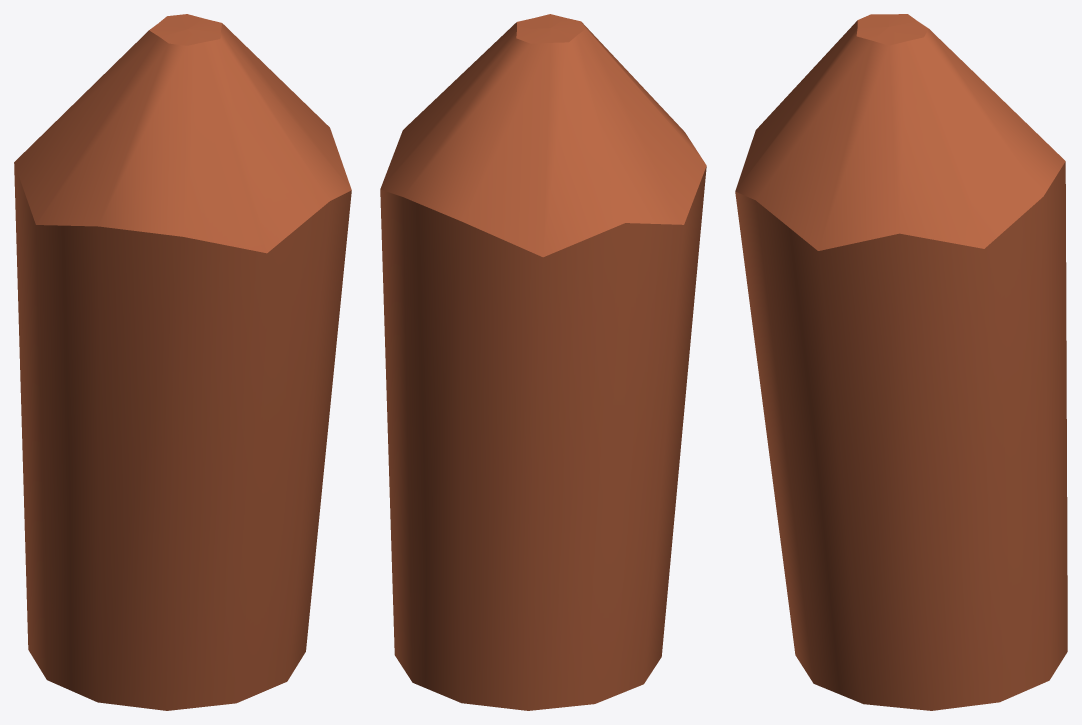
Rendered from pillar.fbx.
3 views of the same model, side by side, from view 1: azimuth 30°, elevation 25°; view 2: azimuth 150°, elevation 25°; view 3: azimuth 270°, elevation 25° (orthographic). The views are drawn at different scales.
Visible parts, largest first — view 1: Pillar; view 2: Pillar; view 3: Pillar.
Part boxes in pixels (bbox=[...]): Pillar: bbox=[14, 14, 351, 710]; Pillar: bbox=[380, 14, 706, 710]; Pillar: bbox=[735, 14, 1067, 710].
Size of the model in its own units: 38.13 by 79.43 by 38.16.
